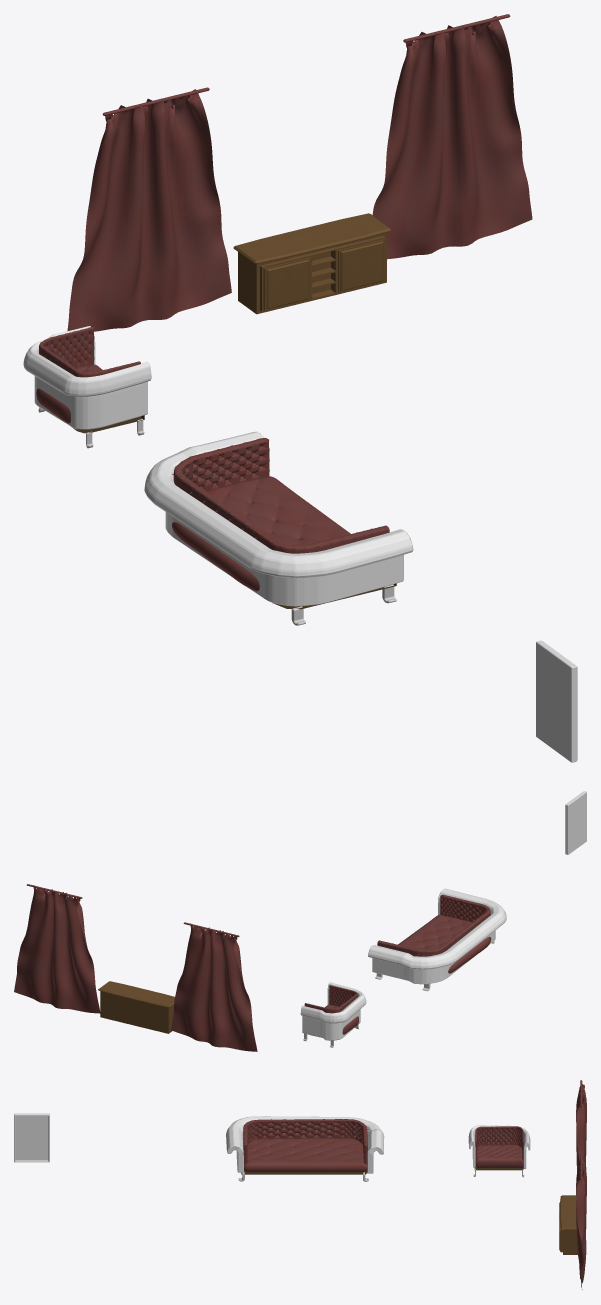
The model's file is Castle clutter.fbx.
3 views of the same model, one above another, from view 1: azimuth 30°, elevation 25°; view 2: azimuth 150°, elevation 25°; view 3: azimuth 270°, elevation 25° (orthographic). The views are drawn at different scales.
Parts seen in each view (by area): view 1: Plane.015, Plane.016, Plane, Plane.002, Cube.002, Plane.001, Cube, Plane.003, Plane.018, Plane.017; view 2: Plane.015, Plane.016, Plane, Plane.002, Cube.002, Plane.001, Cube, Plane.003; view 3: Plane.002, Plane.003, Plane, Cube, Plane.016, Cube.002, Plane.015, Plane.001, Plane.007.
Boxes of the visible parts, x1=… form: Plane.015: x1=67, y1=87, x2=231, y2=331; Plane.016: x1=372, y1=14, x2=532, y2=259; Plane: x1=144, y1=431, x2=413, y2=606; Plane.002: x1=172, y1=438, x2=389, y2=591; Cube.002: x1=233, y1=213, x2=391, y2=314; Plane.001: x1=23, y1=326, x2=151, y2=429; Cube: x1=536, y1=640, x2=577, y2=762; Plane.003: x1=36, y1=327, x2=140, y2=423; Plane.018: x1=263, y1=257, x2=310, y2=310; Plane.017: x1=338, y1=239, x2=384, y2=292; Plane.015: x1=171, y1=922, x2=257, y2=1051; Plane.016: x1=14, y1=884, x2=100, y2=1013; Plane: x1=368, y1=888, x2=506, y2=984; Plane.002: x1=377, y1=894, x2=491, y2=973; Cube.002: x1=98, y1=981, x2=174, y2=1033; Plane.001: x1=300, y1=982, x2=366, y2=1040; Cube: x1=565, y1=791, x2=586, y2=854; Plane.003: x1=304, y1=985, x2=358, y2=1034; Plane.002: x1=243, y1=1119, x2=369, y2=1172; Plane.003: x1=475, y1=1126, x2=524, y2=1167; Plane: x1=226, y1=1116, x2=384, y2=1173; Cube: x1=14, y1=1113, x2=49, y2=1162; Plane.016: x1=576, y1=1153, x2=586, y2=1289; Cube.002: x1=560, y1=1195, x2=577, y2=1254; Plane.015: x1=576, y1=1080, x2=586, y2=1172; Plane.001: x1=468, y1=1125, x2=530, y2=1168; Plane.007: x1=241, y1=1170, x2=367, y2=1174.
Bounding box in the file's own units: 4137 × 1472 × 6682.
